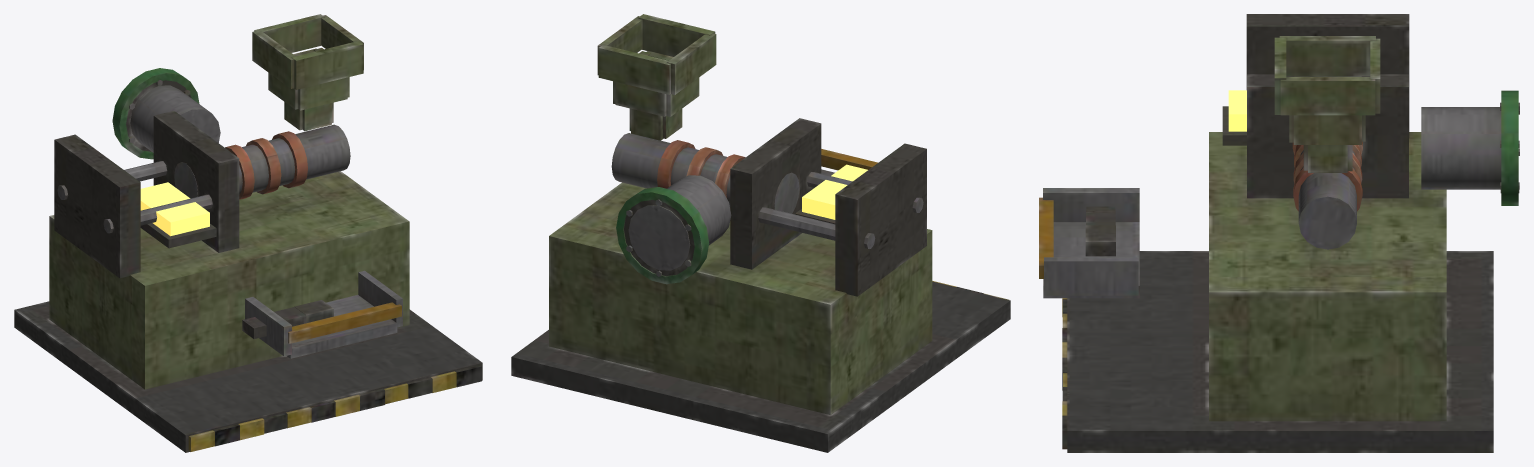
Rendered from feInjector.glb.
3 views of the same model, side by side, from view 1: azimuth 30°, elevation 25°; view 2: azimuth 150°, elevation 25°; view 3: azimuth 270°, elevation 25° (orthographic). The views are drawn at different scales.
Visible parts, largest first — view 1: feInjector_Base, FeCastMetal, FeCastReady; view 2: feInjector_Base, FeCastMetal; view 3: feInjector_Base, FeCastReady, FeCastMetal.
Boxes of the visible parts, x1=… form: feInjector_Base: x1=14, y1=14, x2=482, y2=452; FeCastMetal: x1=140, y1=182, x2=209, y2=236; FeCastReady: x1=242, y1=300, x2=333, y2=338; feInjector_Base: x1=511, y1=14, x2=1010, y2=452; FeCastMetal: x1=802, y1=164, x2=867, y2=219; feInjector_Base: x1=1039, y1=14, x2=1519, y2=452; FeCastReady: x1=1085, y1=206, x2=1115, y2=256; FeCastMetal: x1=1228, y1=90, x2=1246, y2=131.
Bounding box in the file's own units: 0.9012 × 0.823 × 1.02.
2 materials, 1 textured.
